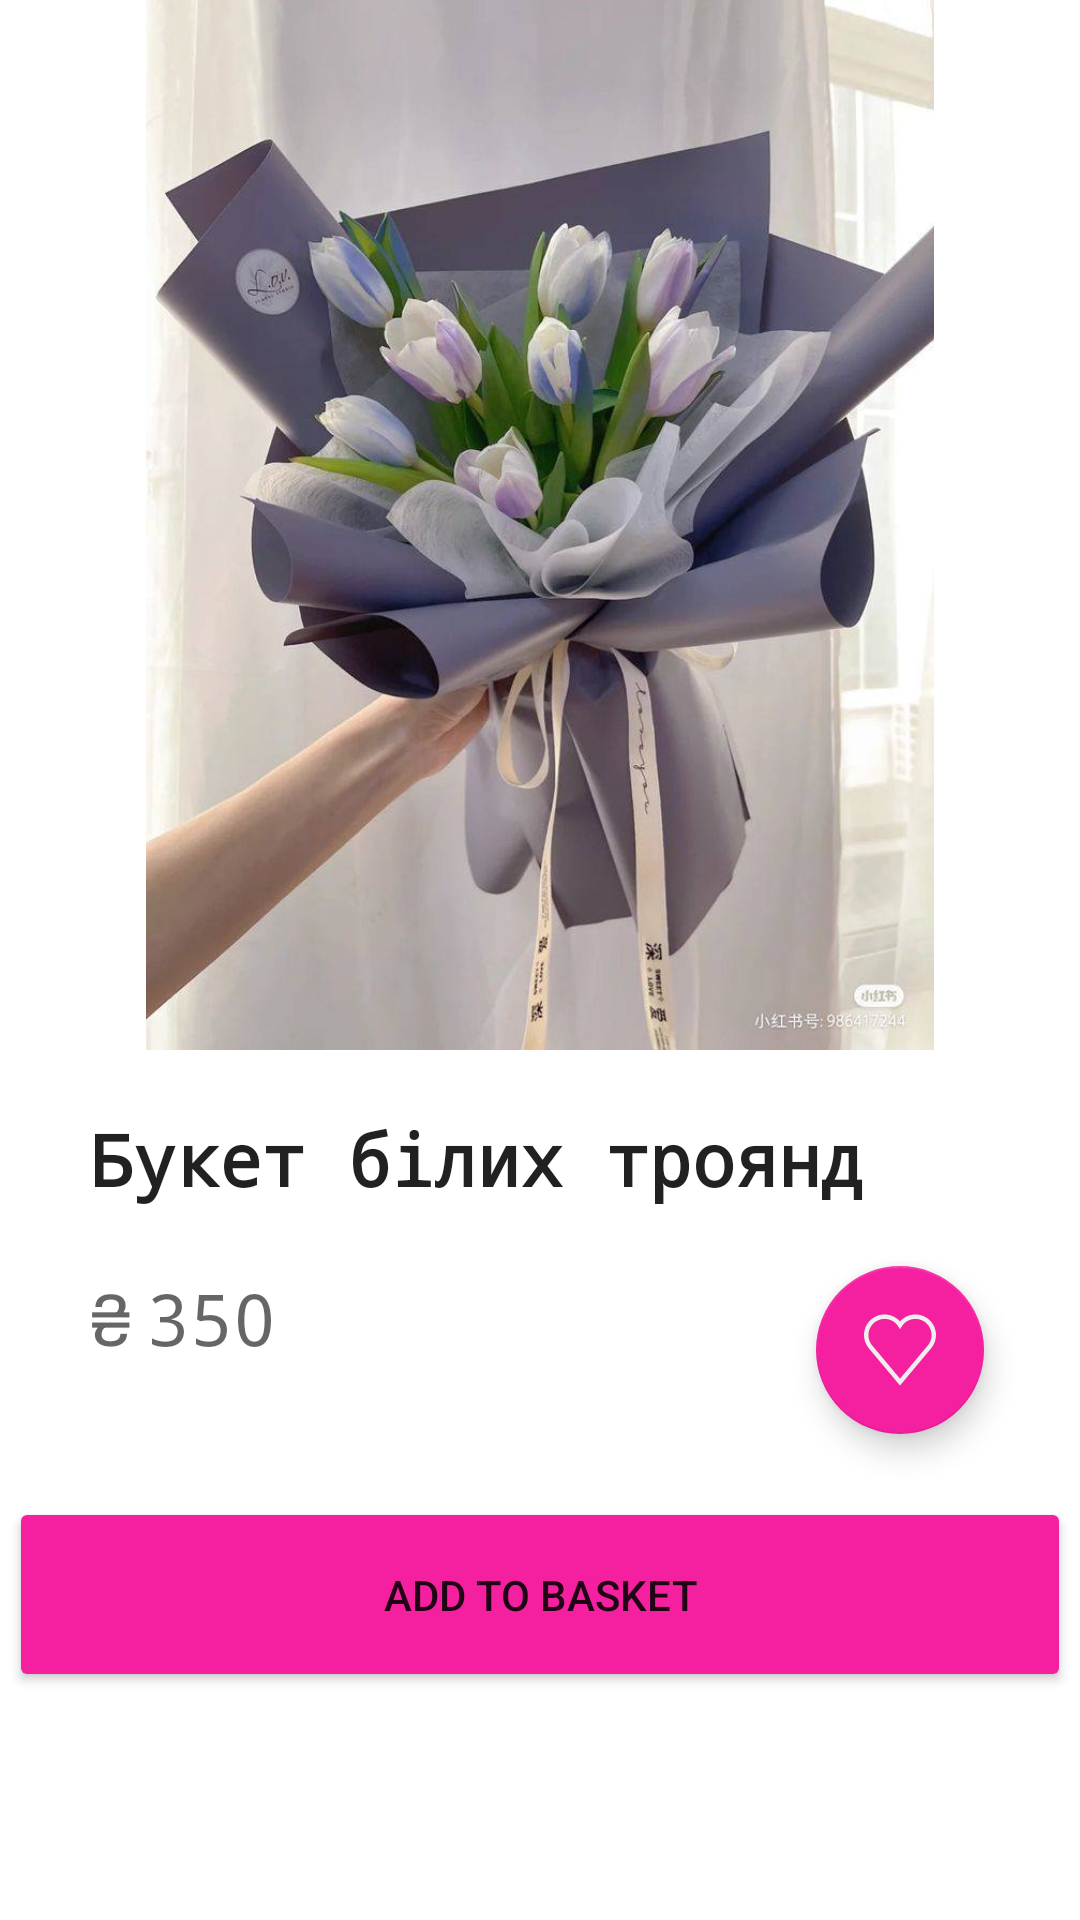

Icon click points for this 1080×1920 phone screenshot, format (x=x, y=y):
favorite: (x=900, y=1350)
